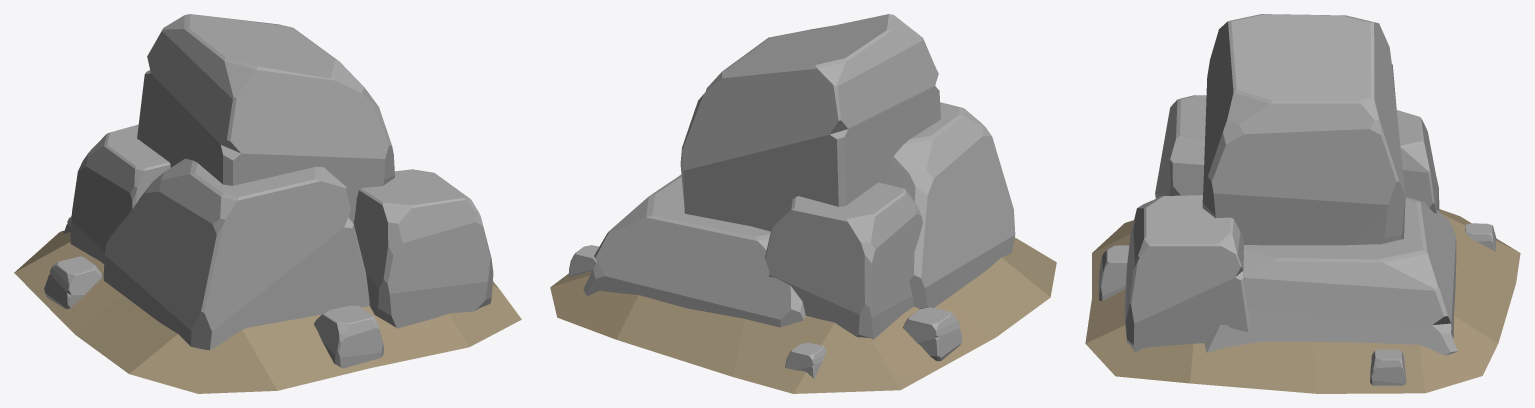
The model's file is HillBox_2.fbx.
3 views of the same model, side by side, from view 1: azimuth 30°, elevation 25°; view 2: azimuth 150°, elevation 25°; view 3: azimuth 270°, elevation 25° (orthographic).
Visible parts, largest first — view 1: New Hill.002; view 2: New Hill.002; view 3: New Hill.002.
Boxes of the visible parts, left/top/right/bottom form: New Hill.002: left=14, top=14, right=521, bottom=393; New Hill.002: left=550, top=14, right=1056, bottom=393; New Hill.002: left=1085, top=14, right=1520, bottom=393.
Size of the model in its own units: 435 by 281 by 430.
